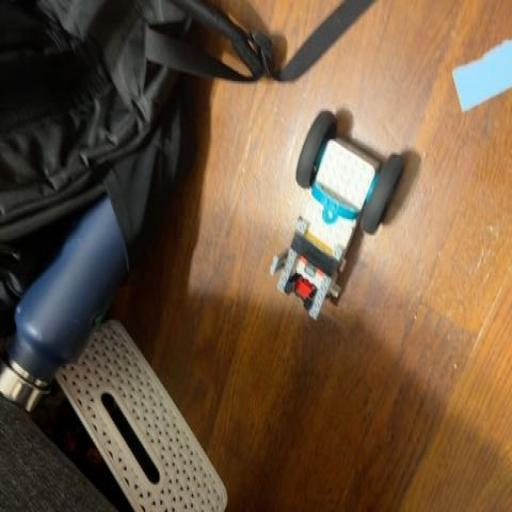Opponent: (268, 102, 402, 321)
